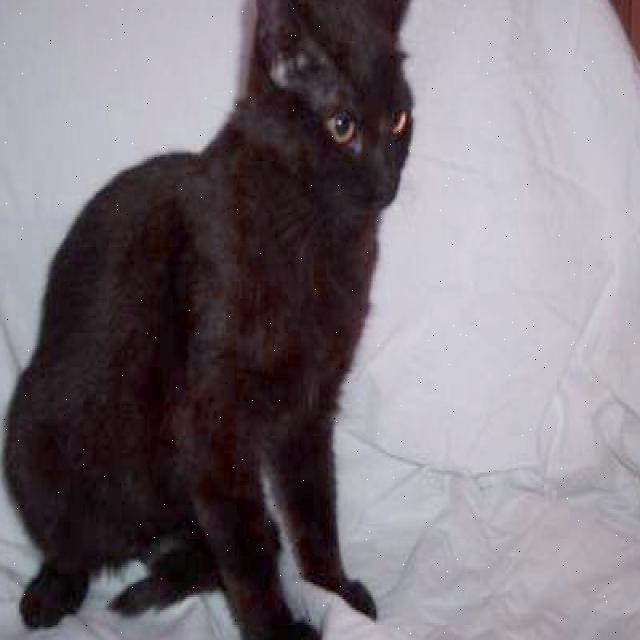Cat: (247, 0, 436, 243)
